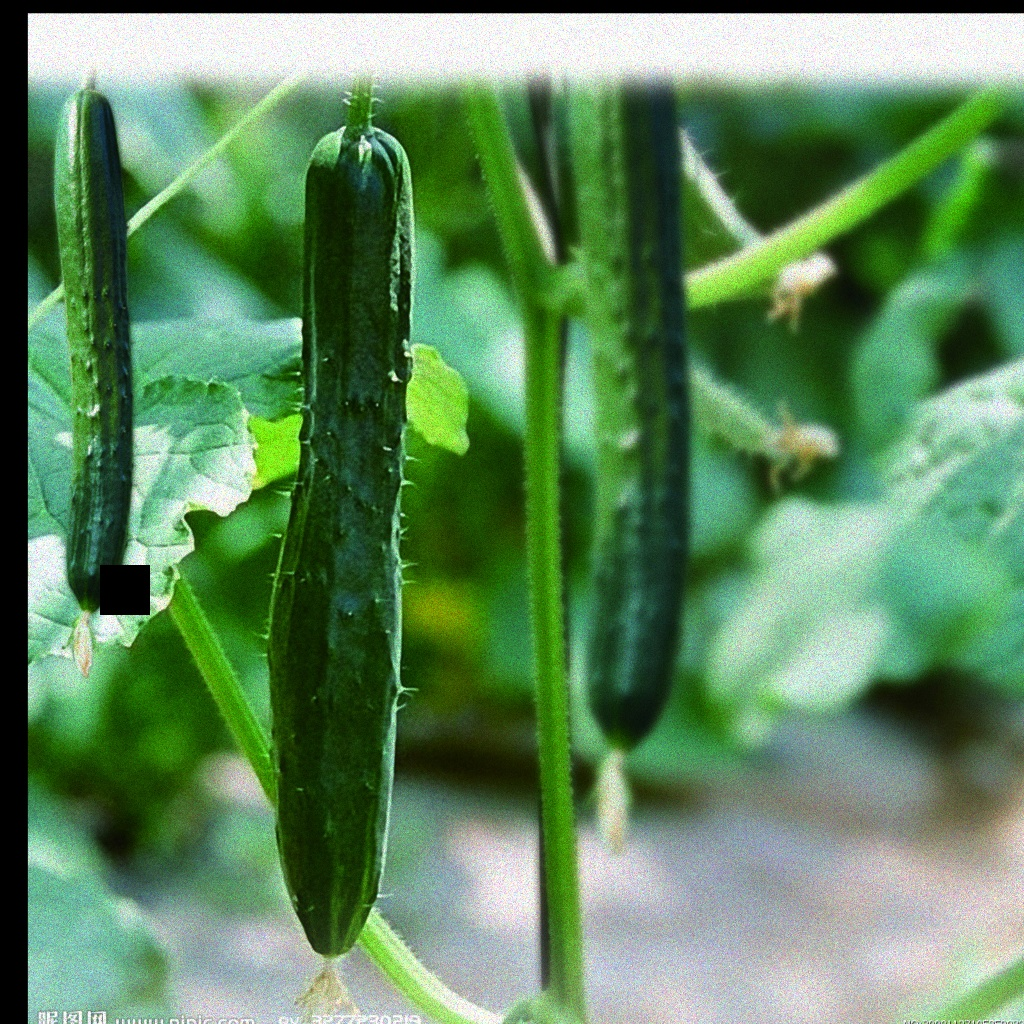cucumber: (254, 131, 432, 960), (47, 88, 145, 614)
